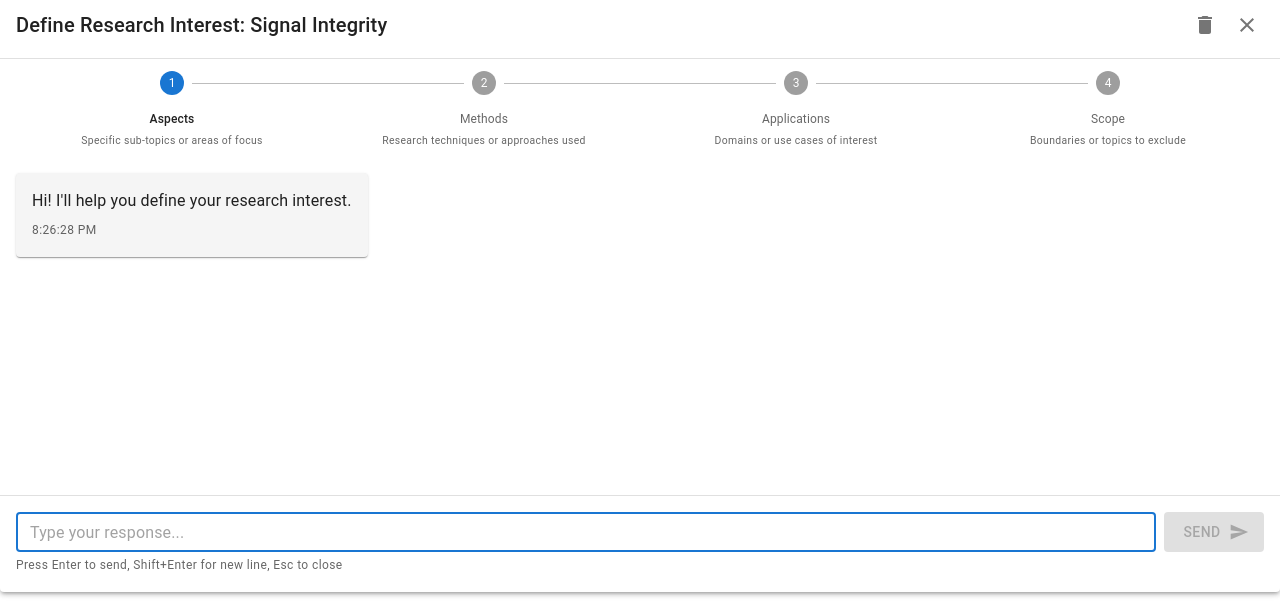
Test case: ChatbotUI Accessibility › ARIA Labels and Screen Reader Support (Task 3.2) › should have role="status" on loading indicator
The width and height of the screenshot is (1280, 614).
Type "Test message" into the text box with placeholder "Type your response..." at (586, 532), box top-left (30, 521), bottom-right (1142, 544)
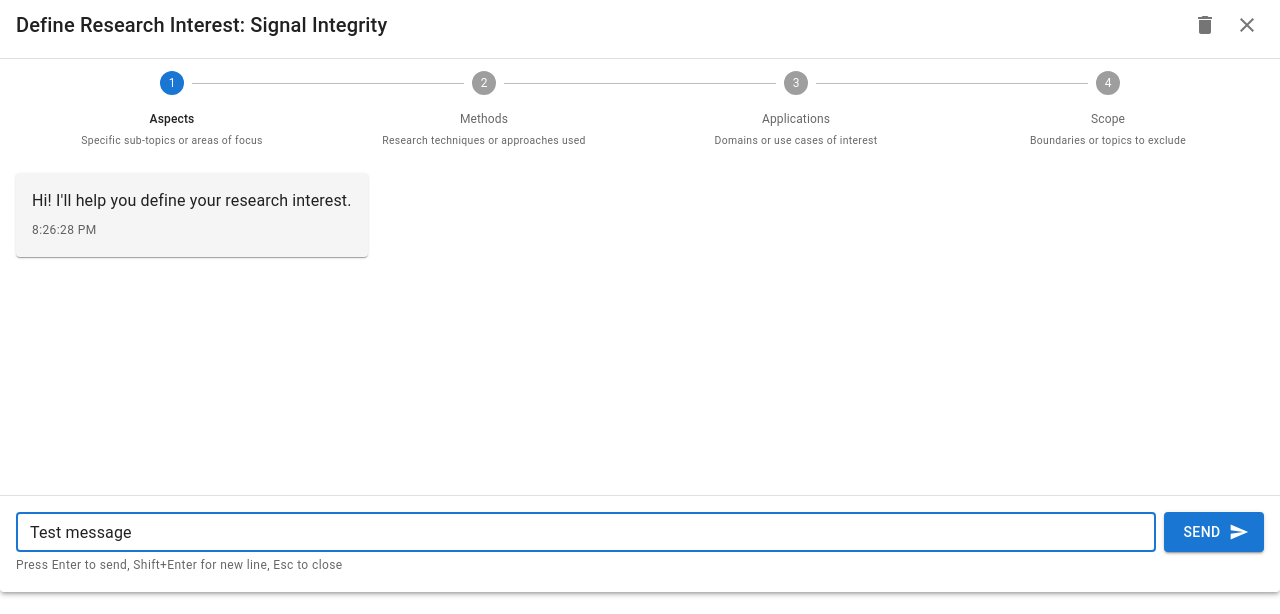
Click the button with aria-label "Send message to chatbot" at (1214, 532), box top-left (1164, 512), bottom-right (1264, 552)
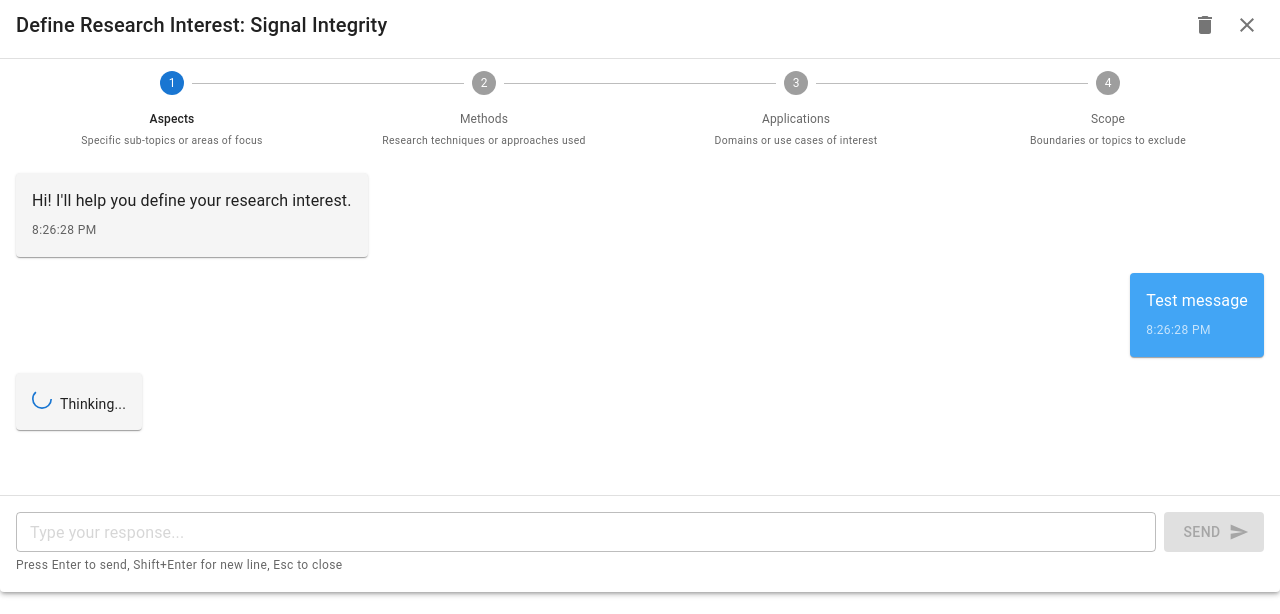
Expected: the message named "Chatbot is thinking" is shown, top-left (16, 373), bottom-right (142, 430)
